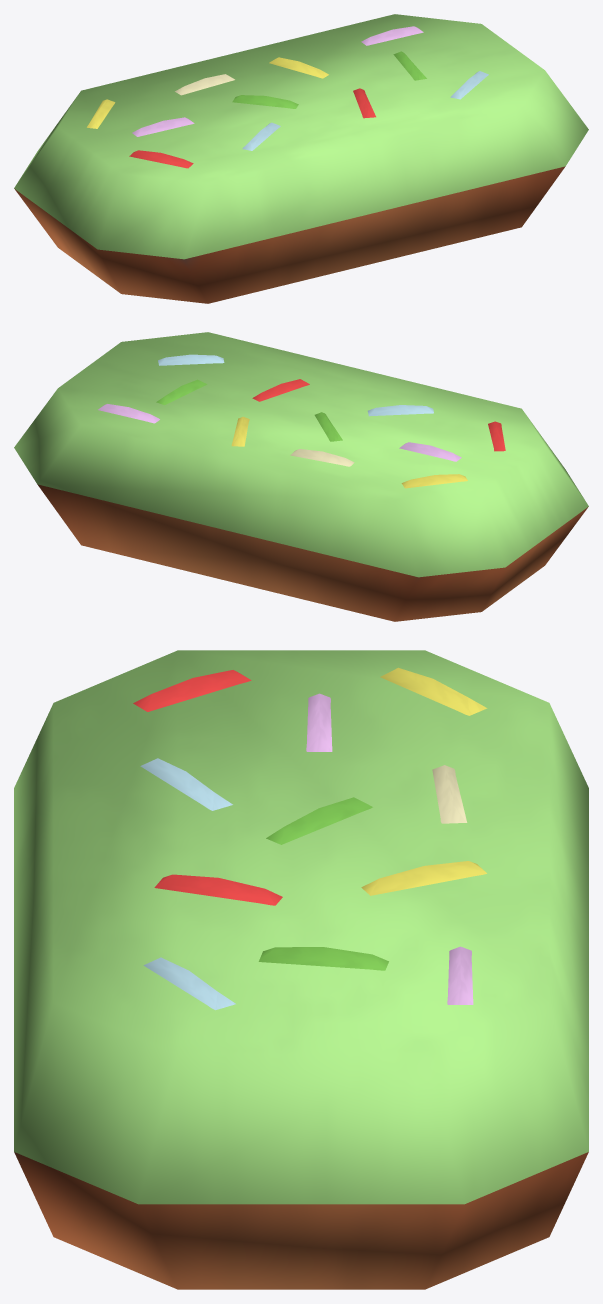
File: Doughnut_Bar_F_2.FBX
3 views of the same model, one above another, from view 1: azimuth 30°, elevation 25°; view 2: azimuth 150°, elevation 25°; view 3: azimuth 270°, elevation 25° (orthographic). The views are drawn at different scales.
Parts seen in each view (by area): view 1: Doughnut_Bar; view 2: Doughnut_Bar; view 3: Doughnut_Bar.
Boxes of the visible parts, <box> form: Doughnut_Bar: <box>14,14,588,303</box>; Doughnut_Bar: <box>14,332,588,621</box>; Doughnut_Bar: <box>14,650,588,1289</box>.
Size of the model in its own units: 75.48 by 18.74 by 39.15.
